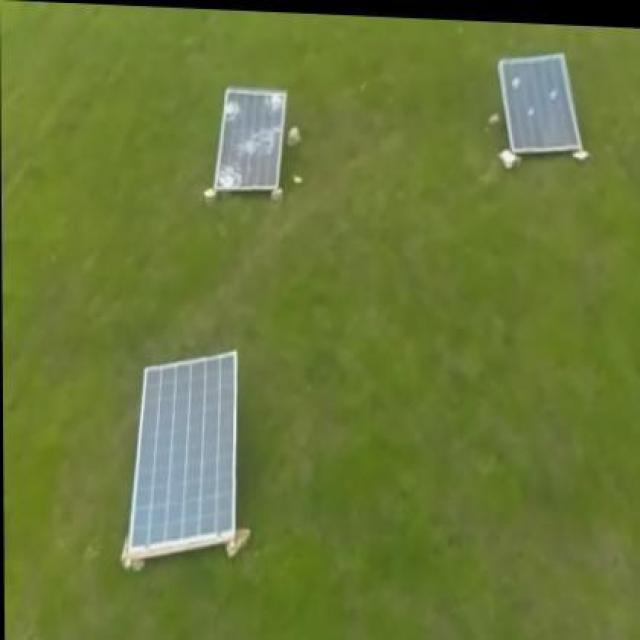cracked: (215, 79, 288, 194)
soiled: (496, 42, 586, 162)
